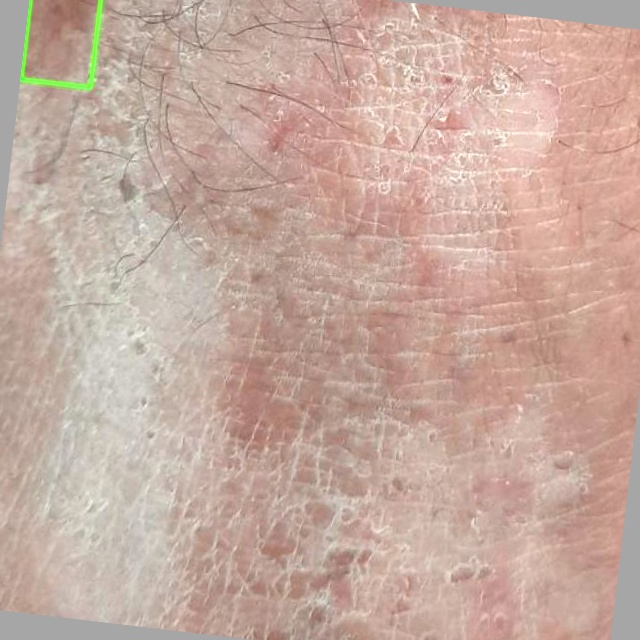Tinea Corporis: (21, 0, 100, 87)
